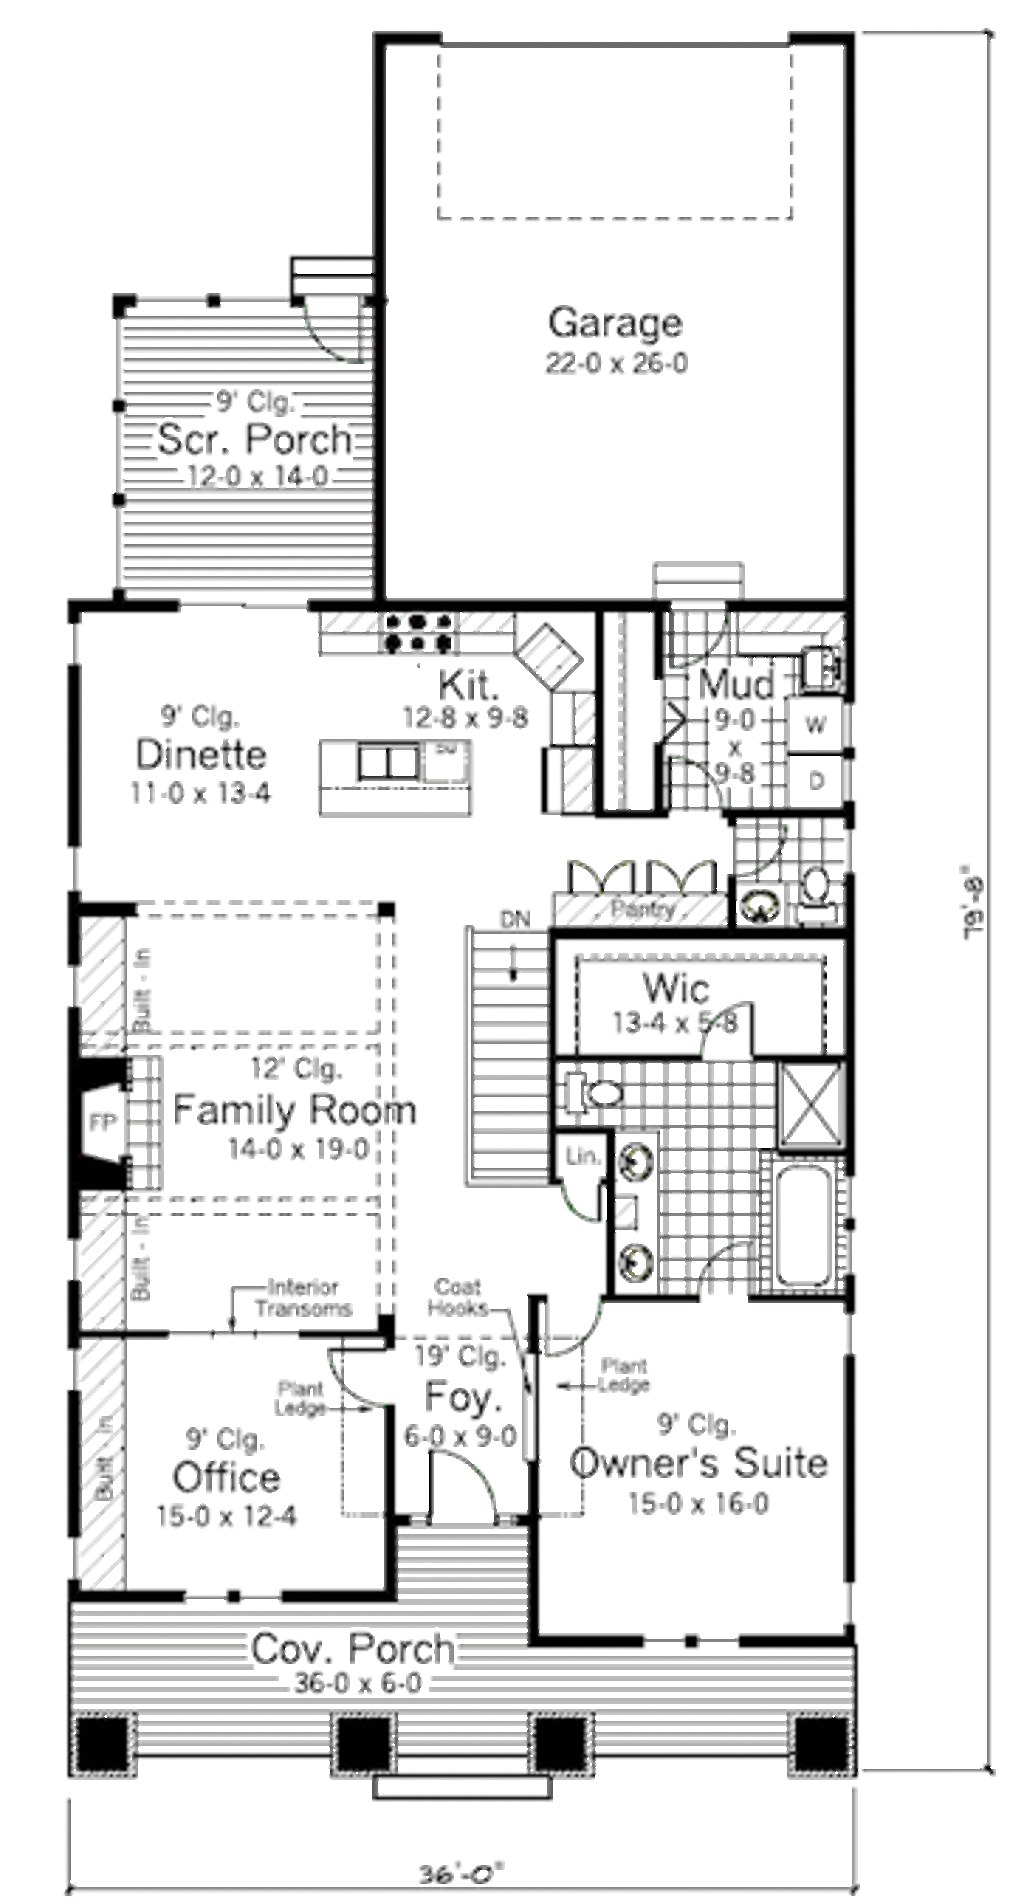door: (404, 1435, 516, 1543), (322, 1332, 399, 1420), (694, 991, 778, 1071), (531, 1294, 613, 1373), (299, 276, 369, 364), (655, 750, 734, 826), (663, 588, 725, 678), (549, 1159, 610, 1232), (560, 850, 643, 900), (655, 844, 731, 897)
large_sink: (551, 1062, 637, 1135), (796, 862, 849, 941)
small_sink: (615, 1132, 663, 1285), (734, 888, 789, 932)
stairs: (443, 920, 549, 1192)
tub: (760, 1147, 837, 1303)
twin_sink: (349, 738, 440, 806)
